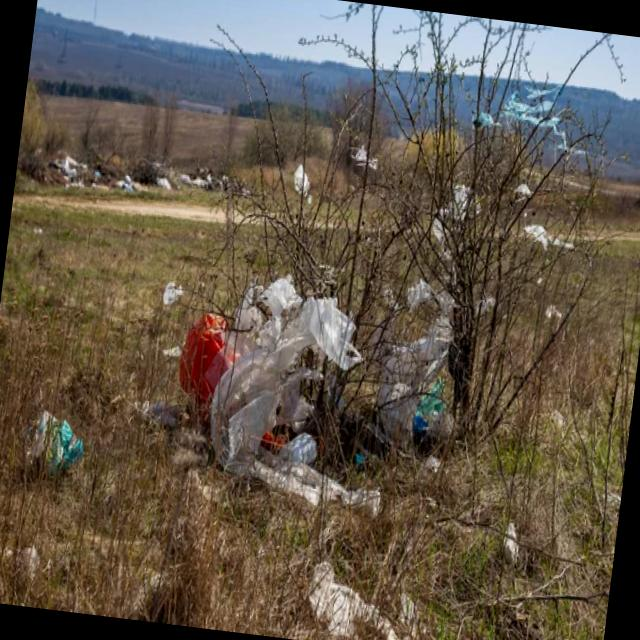garbage: (21, 153, 480, 568)
